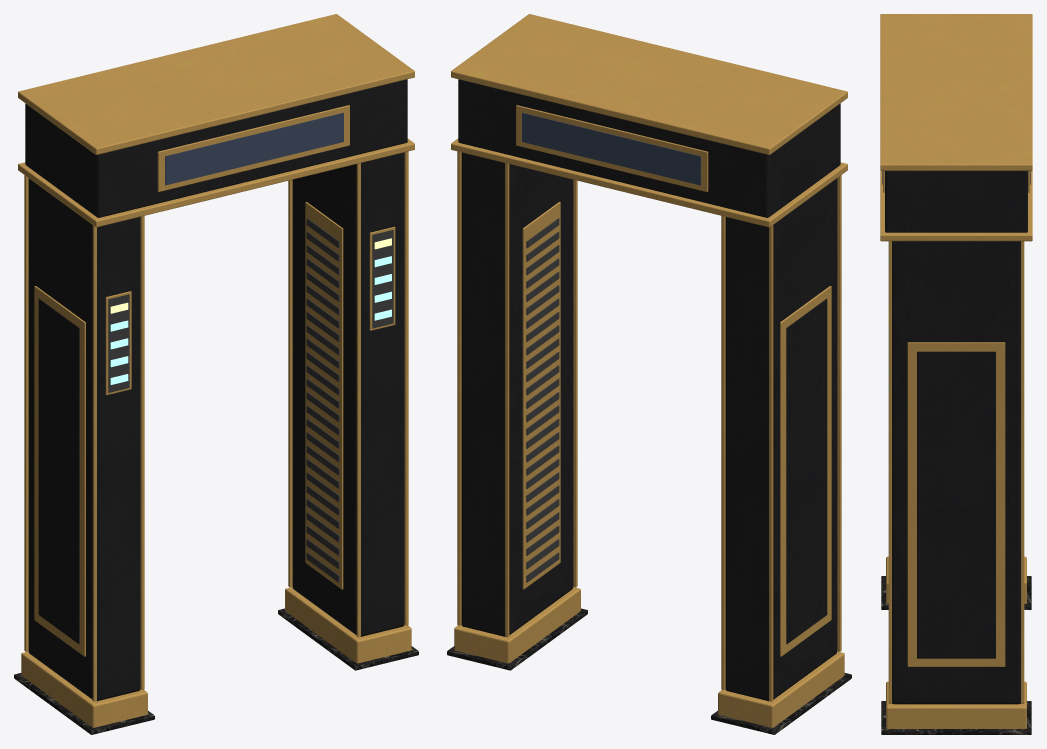
The model's file is scan_gate_6080.glb.
The picture shows the model from 3 angles, left to right: view 1: azimuth 30°, elevation 25°; view 2: azimuth 150°, elevation 25°; view 3: azimuth 270°, elevation 25°; orthographic projection. The views are drawn at different scales.
Visible parts, largest first — view 1: scan_gate_6080; view 2: scan_gate_6080; view 3: scan_gate_6080.
Part boxes in pixels (<box>): scan_gate_6080: <box>14,14,418,734</box>; scan_gate_6080: <box>447,14,851,734</box>; scan_gate_6080: <box>880,14,1032,734</box>.
Size of the model in its own units: 1.54 by 2.63 by 0.64.
7 materials, 3 textured.
